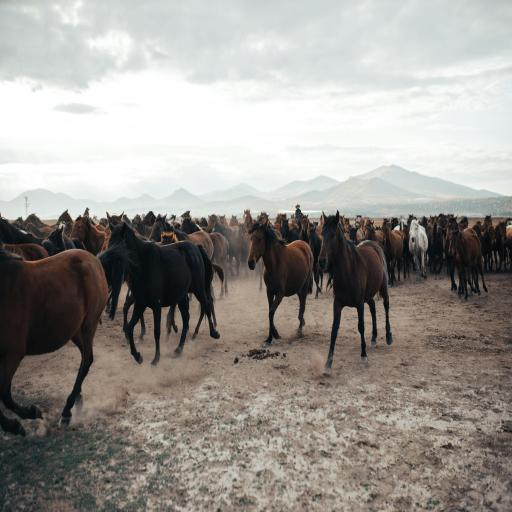horse: (0, 251, 108, 428), (103, 223, 219, 365), (319, 212, 392, 375), (248, 218, 313, 346), (450, 229, 487, 302), (70, 216, 105, 255), (0, 216, 45, 245), (382, 224, 403, 286), (409, 220, 428, 283), (43, 228, 84, 255), (308, 225, 323, 298), (0, 241, 51, 261), (481, 224, 496, 271), (149, 214, 170, 242), (58, 209, 73, 223), (229, 215, 238, 227)
